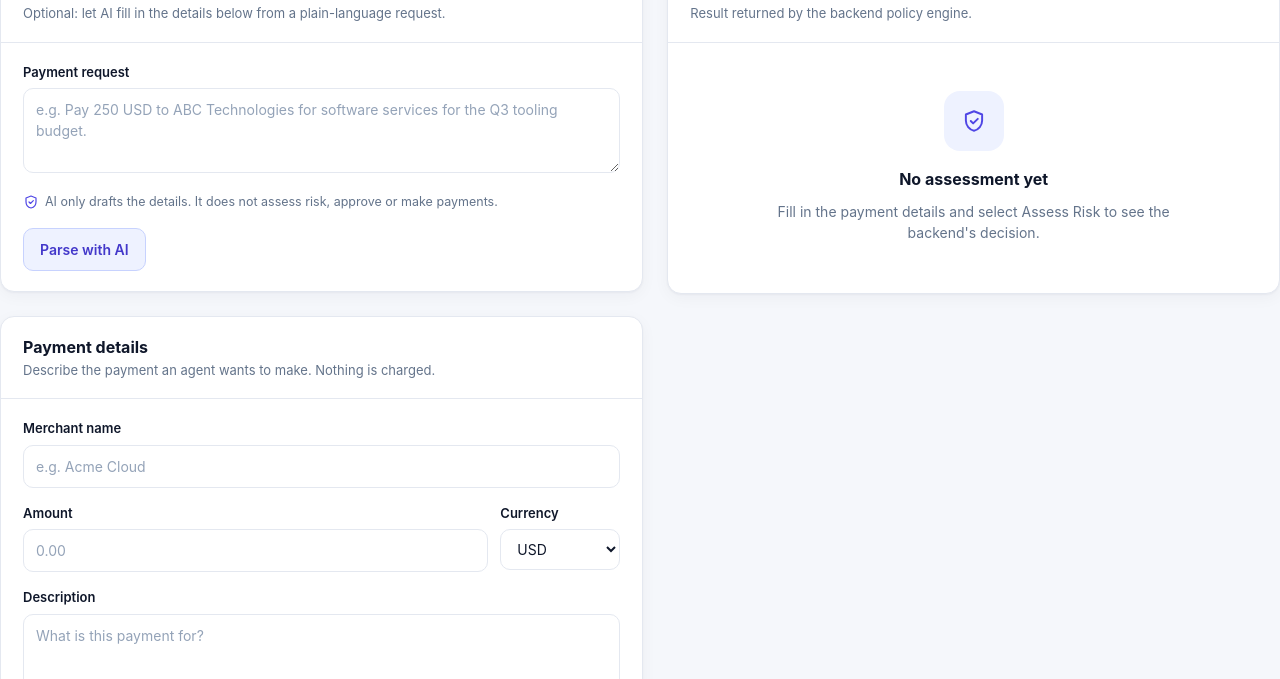
Test: NewPaymentPage: successful assessment › sends the trimmed TransactionDetails and nothing else
In the field labelled "Merchant name": x=322, y=466 [23,445,620,488], type "  Acme Cloud  "
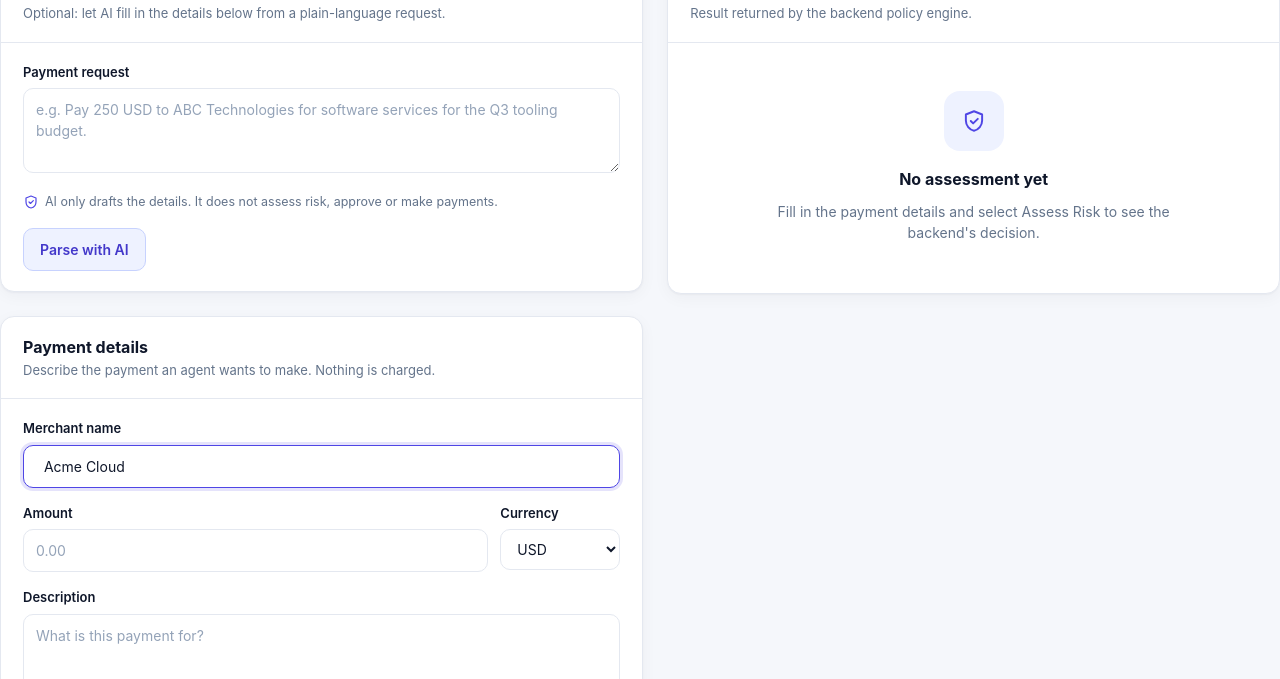
In the field labelled "Amount": x=256, y=551 [23,529,488,572], type "49.99"
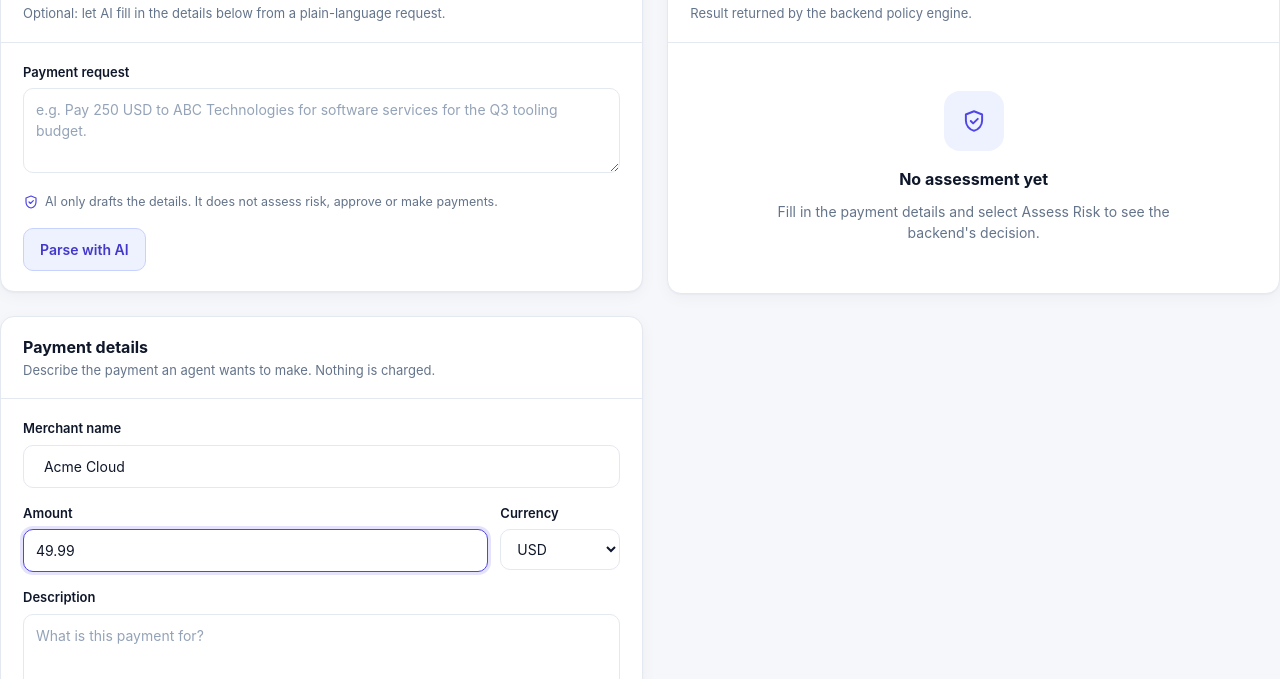
Select "EUR" in the dropdown labelled "Currency": x=560, y=550 [500,529,620,570]
(page scrolled)
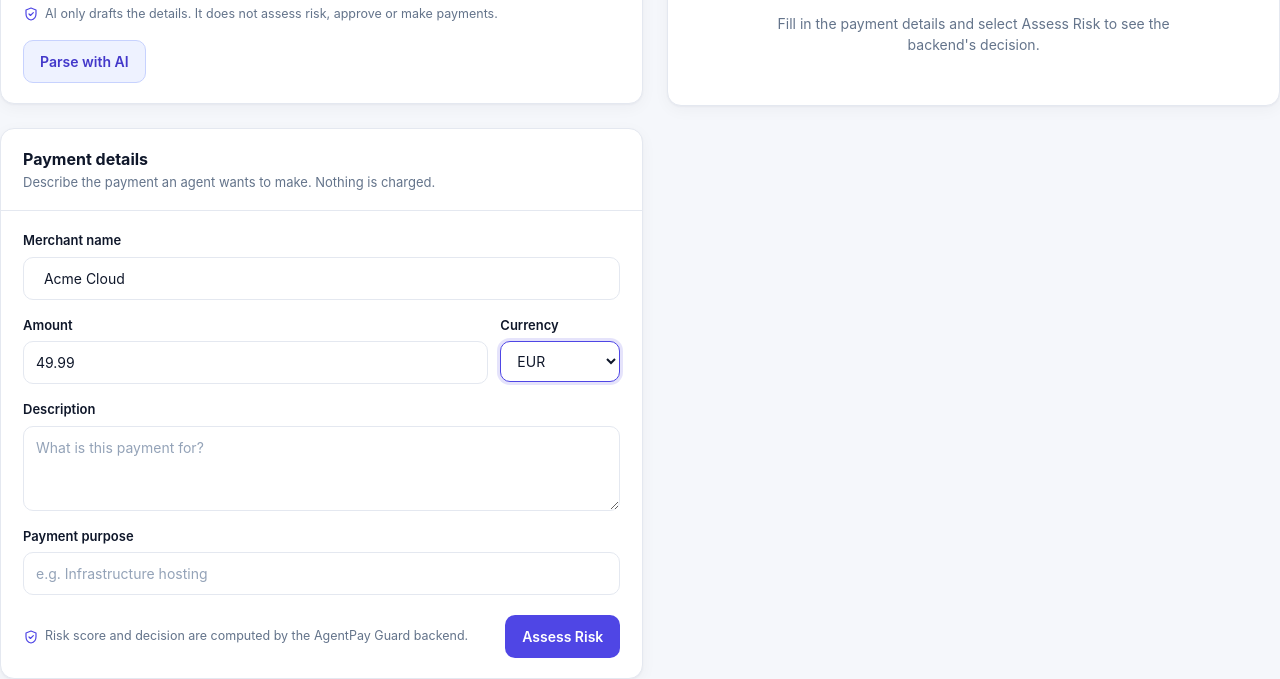
In the text box labelled "Description": x=322, y=468 [23,426,620,511], type "Monthly hosting invoice"
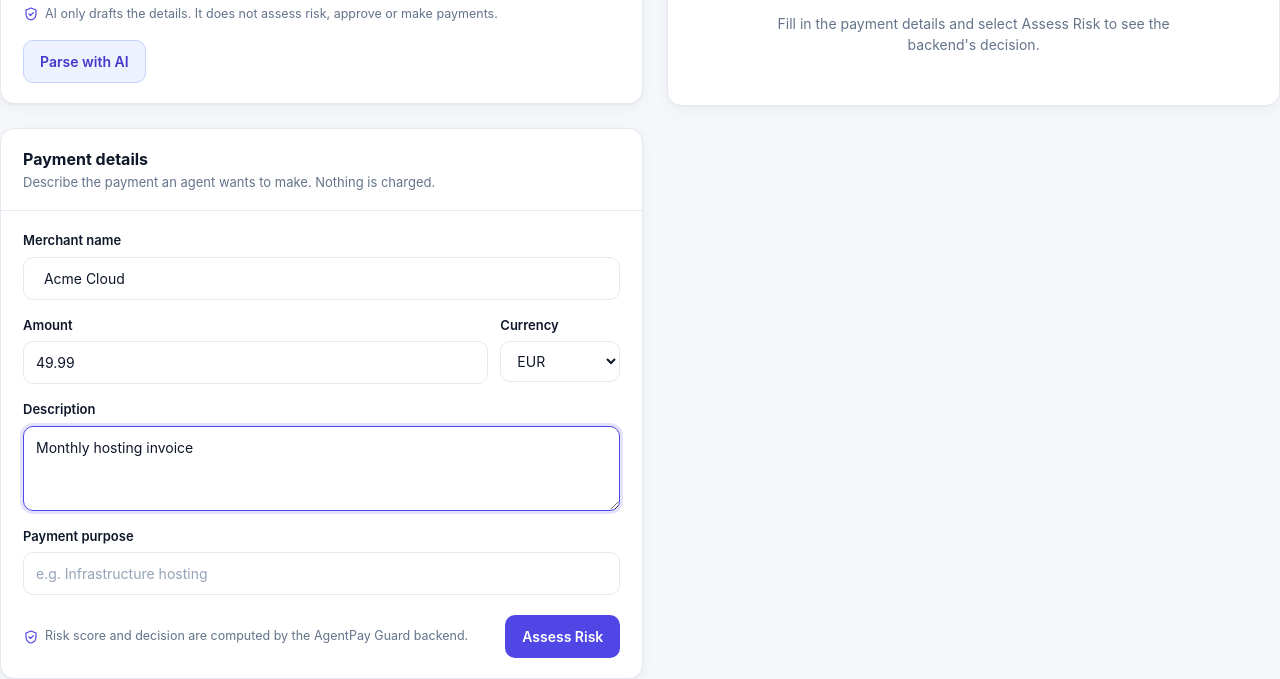
In the field labelled "Payment purpose": x=322, y=574 [23,552,620,595], type "Infrastructure hosting"
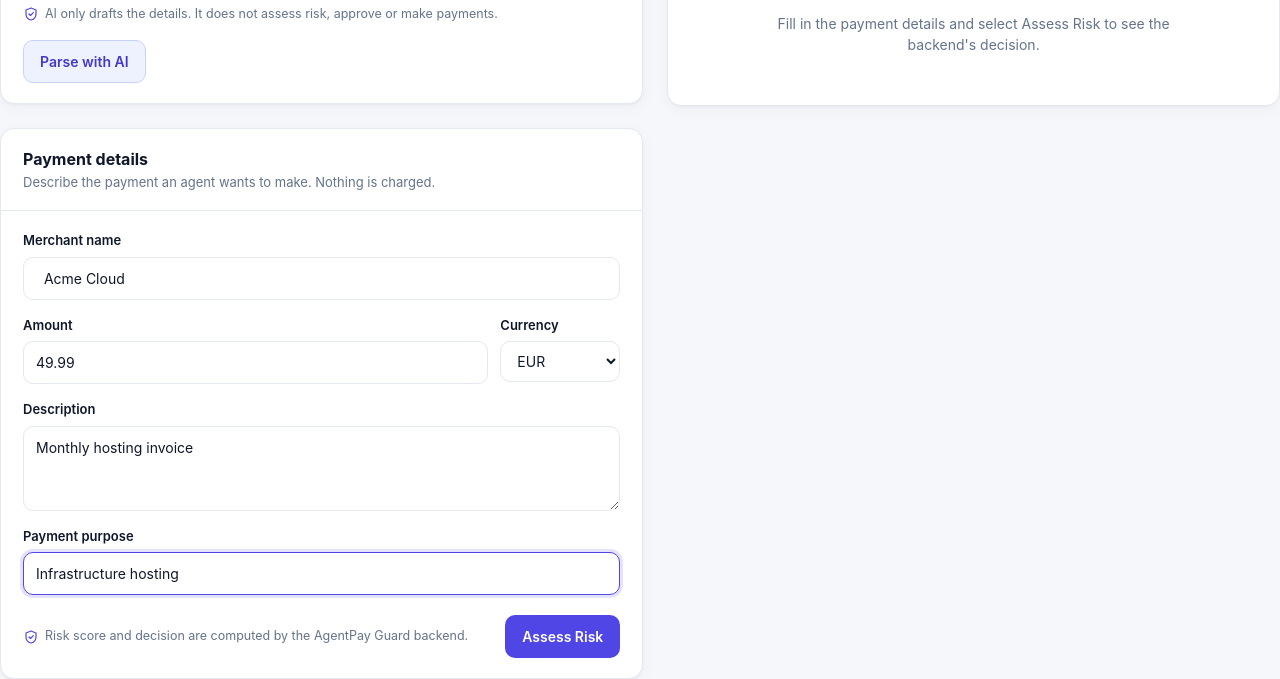
Click the button "Assess Risk": x=563, y=637 [505,615,620,658]
(page scrolled)
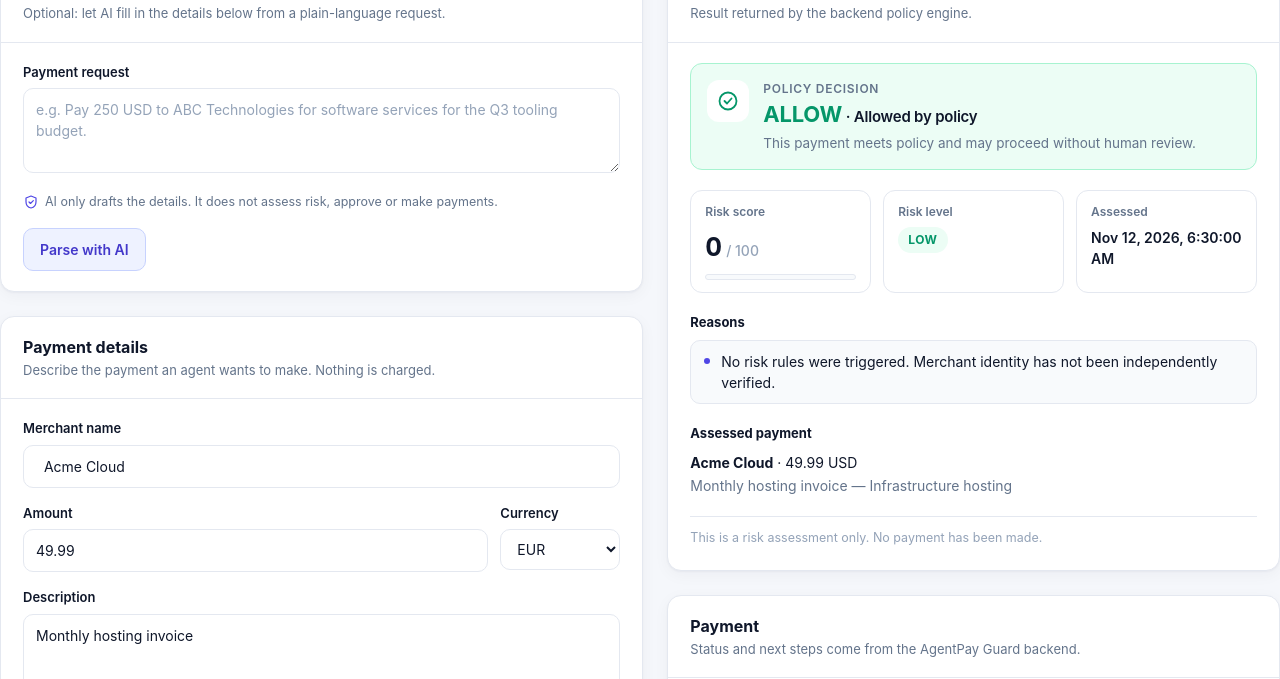
Expected: the text "ALLOW" is shown, [763,100,842,126]
